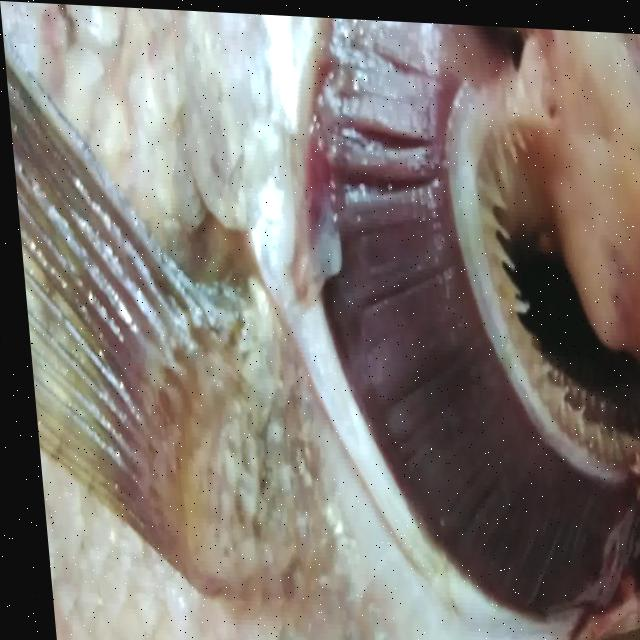Non-Fresh: (279, 30, 640, 609)
